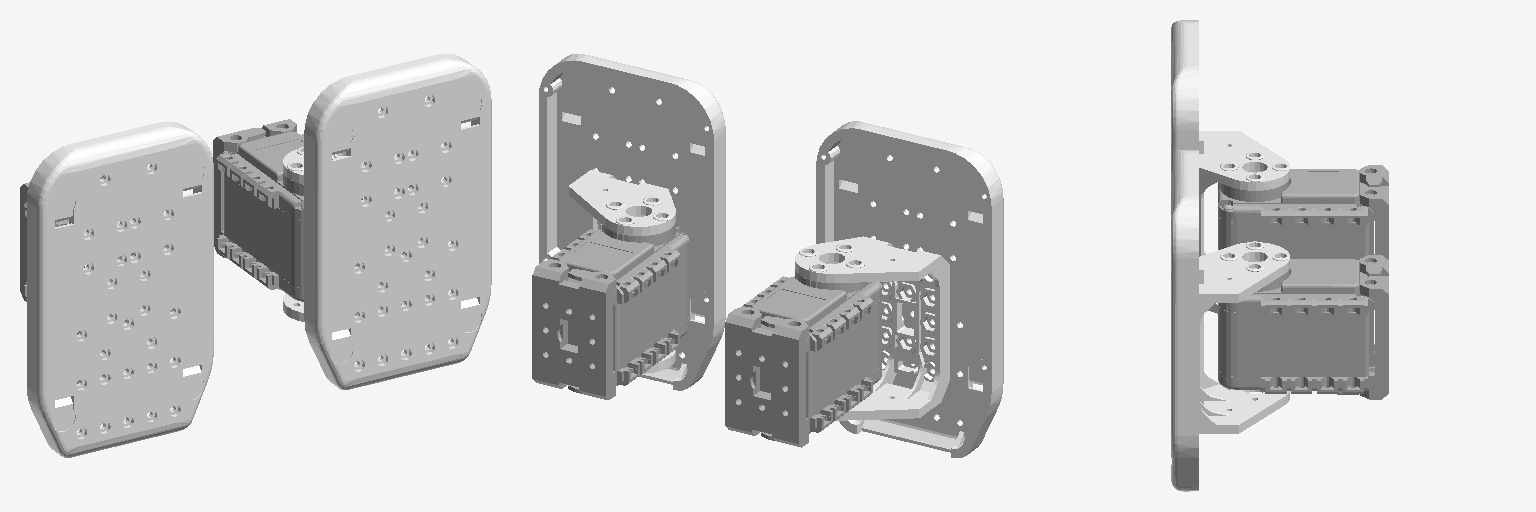
URDF robot description (walkingDroid):
<?xml version="1.0" encoding="utf-8"?>
<!-- This URDF was automatically created by SolidWorks to URDF Exporter! Originally created by [author] ([email redacted]) 
     Commit Version: 1.6.0-1-g15f4949  Build Version: 1.6.7594.29634
     For more information, please see http://wiki.ros.org/sw_urdf_exporter -->
<robot
  name="walkingDroid">
  <link
    name="base_link">
    <inertial>
      <origin
        xyz="-0.0249512468249835 -0.120956812422059 -0.021717601772648"
        rpy="0 0 0" />
      <mass
        value="0.322402707657554" />
      <inertia
        ixx="0.000106384634079949"
        ixy="-7.29636003991511E-08"
        ixz="2.19528646407993E-07"
        iyy="0.000142031393792989"
        iyz="5.47445667956782E-06"
        izz="0.000108548672754933" />
    </inertial>
    <visual>
      <origin
        xyz="0 0 0"
        rpy="0 0 0" />
      <geometry>
        <mesh
          filename="base_link.STL" />
      </geometry>
      <material
        name="">
        <color
          rgba="0.792156862745098 0.819607843137255 0.933333333333333 1" />
      </material>
    </visual>
    <collision>
      <origin
        xyz="0 0 0"
        rpy="0 0 0" />
      <geometry>
        <mesh
          filename="base_link.STL" />
      </geometry>
    </collision>
  </link>
  <link
    name="left_Link1">
    <inertial>
      <origin
        xyz="3.21989187477209E-05 0.000694871939720836 0.0279389117460143"
        rpy="0 0 0" />
      <mass
        value="0.115326588133613" />
      <inertia
        ixx="3.14858509716125E-05"
        ixy="-3.92701556820315E-09"
        ixz="2.81498628877082E-08"
        iyy="2.71118454269553E-05"
        iyz="5.15438421042447E-07"
        izz="1.75963886072441E-05" />
    </inertial>
    <visual>
      <origin
        xyz="0 0 0"
        rpy="0 0 0" />
      <geometry>
        <mesh
          filename="left_Link1.STL" />
      </geometry>
      <material
        name="">
        <color
          rgba="0.752941176470588 0.752941176470588 0.752941176470588 1" />
      </material>
    </visual>
    <collision>
      <origin
        xyz="0 0 0"
        rpy="0 0 0" />
      <geometry>
        <mesh
          filename="left_Link1.STL" />
      </geometry>
    </collision>
  </link>
  <joint
    name="left_joint1"
    type="continuous">
    <origin
      xyz="-0.0578881985319832 -0.152376035364315 -0.0104233251633075"
      rpy="1.5707963267949 0 0" />
    <parent
      link="base_link" />
    <child
      link="left_Link1" />
    <axis
      xyz="0 0 1" />
  </joint>
  <link
    name="left_Link2">
    <inertial>
      <origin
        xyz="0.0203788982751872 0.0134411622941078 0.0131401940220367"
        rpy="0 0 0" />
      <mass
        value="0.0284246015904315" />
      <inertia
        ixx="2.76902470280597E-05"
        ixy="-3.0698590427774E-07"
        ixz="-6.31533916219011E-08"
        iyy="2.05006474616519E-05"
        iyz="-1.24692946255993E-11"
        izz="8.76016882108153E-06" />
    </inertial>
    <visual>
      <origin
        xyz="0 0 0"
        rpy="0 0 0" />
      <geometry>
        <mesh
          filename="left_Link2.STL" />
      </geometry>
      <material
        name="">
        <color
          rgba="1 1 1 1" />
      </material>
    </visual>
    <collision>
      <origin
        xyz="0 0 0"
        rpy="0 0 0" />
      <geometry>
        <mesh
          filename="left_Link2.STL" />
      </geometry>
    </collision>
  </link>
  <joint
    name="left_joint2"
    type="continuous">
    <origin
      xyz="0 0.0208010878829183 0.0416989121170833"
      rpy="1.5707963267949 -1.5707963267949 0" />
    <parent
      link="left_Link1" />
    <child
      link="left_Link2" />
    <axis
      xyz="0 0 -1" />
  </joint>
  <link
    name="right_Link1">
    <inertial>
      <origin
        xyz="-3.21989187486871E-05 -0.000694871939718775 0.0279389117460142"
        rpy="0 0 0" />
      <mass
        value="0.115326588133612" />
      <inertia
        ixx="3.14858509716123E-05"
        ixy="-3.92701556813899E-09"
        ixz="-2.81498628877473E-08"
        iyy="2.71118454269552E-05"
        iyz="-5.15438421042486E-07"
        izz="1.7596388607244E-05" />
    </inertial>
    <visual>
      <origin
        xyz="0 0 0"
        rpy="0 0 0" />
      <geometry>
        <mesh
          filename="right_Link1.STL" />
      </geometry>
      <material
        name="">
        <color
          rgba="0.752941176470588 0.752941176470588 0.752941176470588 1" />
      </material>
    </visual>
    <collision>
      <origin
        xyz="0 0 0"
        rpy="0 0 0" />
      <geometry>
        <mesh
          filename="right_Link1.STL" />
      </geometry>
    </collision>
  </link>
  <joint
    name="right_joint1"
    type="continuous">
    <origin
      xyz="0.00811180146801538 -0.152376035364315 -0.0104233251633063"
      rpy="-1.5707963267949 0 3.14159265358979" />
    <parent
      link="base_link" />
    <child
      link="right_Link1" />
    <axis
      xyz="0 0 1" />
  </joint>
  <link
    name="right_Link2">
    <inertial>
      <origin
        xyz="0.020378898275188 0.0134413515166999 -0.0131401940219667"
        rpy="0 0 0" />
      <mass
        value="0.0284246015904317" />
      <inertia
        ixx="2.769024702806E-05"
        ixy="-3.06988077503944E-07"
        ixz="6.31533915886877E-08"
        iyy="2.05006474616523E-05"
        iyz="-1.24692934871239E-11"
        izz="8.76016882108155E-06" />
    </inertial>
    <visual>
      <origin
        xyz="0 0 0"
        rpy="0 0 0" />
      <geometry>
        <mesh
          filename="right_Link2.STL" />
      </geometry>
      <material
        name="">
        <color
          rgba="1 1 1 1" />
      </material>
    </visual>
    <collision>
      <origin
        xyz="0 0 0"
        rpy="0 0 0" />
      <geometry>
        <mesh
          filename="right_Link2.STL" />
      </geometry>
    </collision>
  </link>
  <joint
    name="right_joint2"
    type="continuous">
    <origin
      xyz="0 -0.0208010878829161 0.0416989121170831"
      rpy="1.570796326795 -1.5707963267949 0" />
    <parent
      link="right_Link1" />
    <child
      link="right_Link2" />
    <axis
      xyz="0 0 1" />
  </joint>
</robot>

--- Render facts (derived) ---
3 views of the same robot in one strip: view 1: azimuth 30°, elevation 25°; view 2: azimuth 150°, elevation 25°; view 3: azimuth 270°, elevation 25° (orthographic).
Model walkingDroid with 5 links and 4 joints (4 continuous), rooted at base_link, posed all joints at 0.
Links seen in each view (by area): view 1: right_Link2, left_Link2, right_Link1, left_Link1; view 2: left_Link2, right_Link2, right_Link1, left_Link1; view 3: right_Link1, right_Link2, left_Link1, left_Link2.
Boxes of the visible links, x1,y1,x2,y2 form: right_Link2: (283,54,491,389); left_Link2: (27,121,213,457); right_Link1: (213,119,303,301); left_Link1: (20,176,172,322); left_Link2: (795,121,1003,457); right_Link2: (539,54,725,390); right_Link1: (532,215,688,399); left_Link1: (725,262,881,447); right_Link1: (1218,255,1388,399); right_Link2: (1171,150,1289,491); left_Link1: (1218,165,1388,259); left_Link2: (1171,20,1289,313).
Bounding box of the posed robot: 0.155 × 0.0675 × 0.1 m (x, y, z).
4 mesh visuals loaded from 5 distinct referenced files (4 binary STL); not drawn: 1 (reference not matched to a file when rendering).